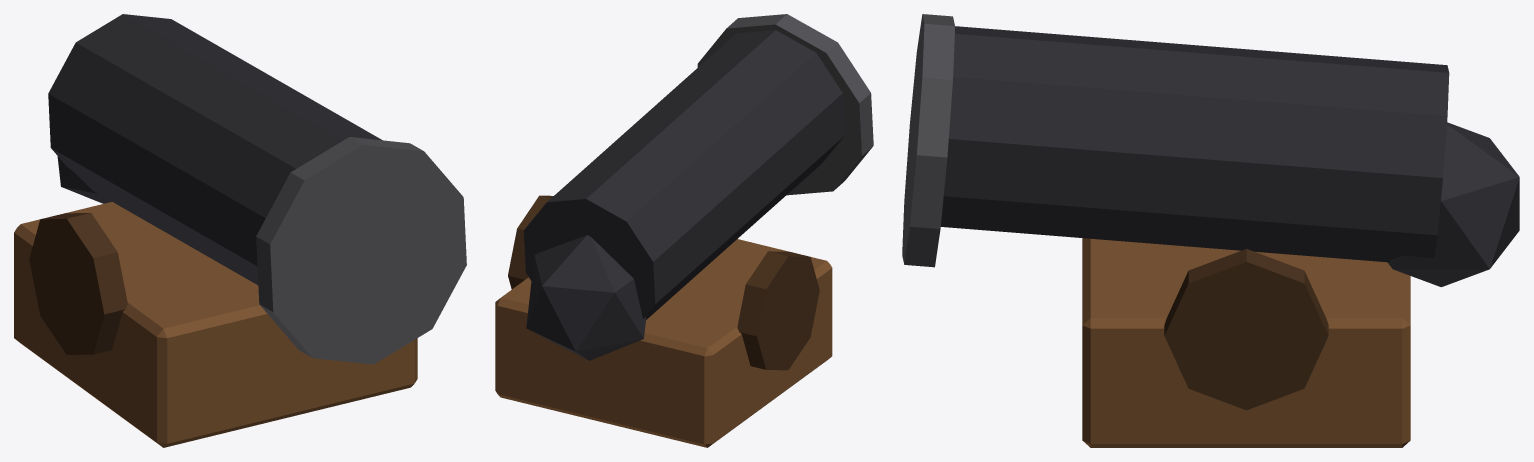
File: HeavyCannon.fbx
The picture shows the model from 3 angles, left to right: view 1: azimuth 30°, elevation 25°; view 2: azimuth 150°, elevation 25°; view 3: azimuth 270°, elevation 25°; orthographic projection. The views are drawn at different scales.
Visible parts, largest first — view 1: HeavyCannon; view 2: HeavyCannon; view 3: HeavyCannon.
Boxes of the visible parts, left/top/right/bottom form: HeavyCannon: left=14, top=14, right=466, bottom=447; HeavyCannon: left=495, top=14, right=873, bottom=447; HeavyCannon: left=902, top=14, right=1519, bottom=447.
Size of the model in its own units: 3.66 by 3.86 by 6.02.
1 material, 1 textured.
